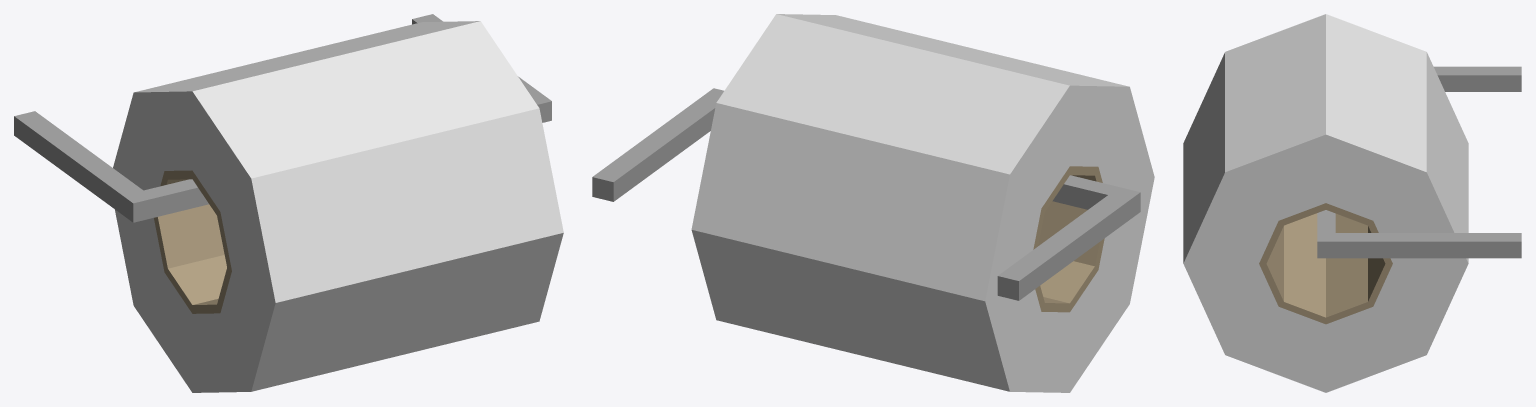
Rendered from P_Jail_HygienicPaper.fbx.
The picture shows the model from 3 angles, left to right: view 1: azimuth 30°, elevation 25°; view 2: azimuth 150°, elevation 25°; view 3: azimuth 270°, elevation 25°; orthographic projection. The views are drawn at different scales.
Parts seen in each view (by area): view 1: P_Jail_HygienicPaper; view 2: P_Jail_HygienicPaper; view 3: P_Jail_HygienicPaper.
Boxes of the visible parts, left/top/right/bottom form: P_Jail_HygienicPaper: left=14, top=14, right=563, bottom=392; P_Jail_HygienicPaper: left=592, top=14, right=1154, bottom=392; P_Jail_HygienicPaper: left=1183, top=14, right=1521, bottom=392.
Bounding box in the file's own units: 129 × 105 × 88.52.
